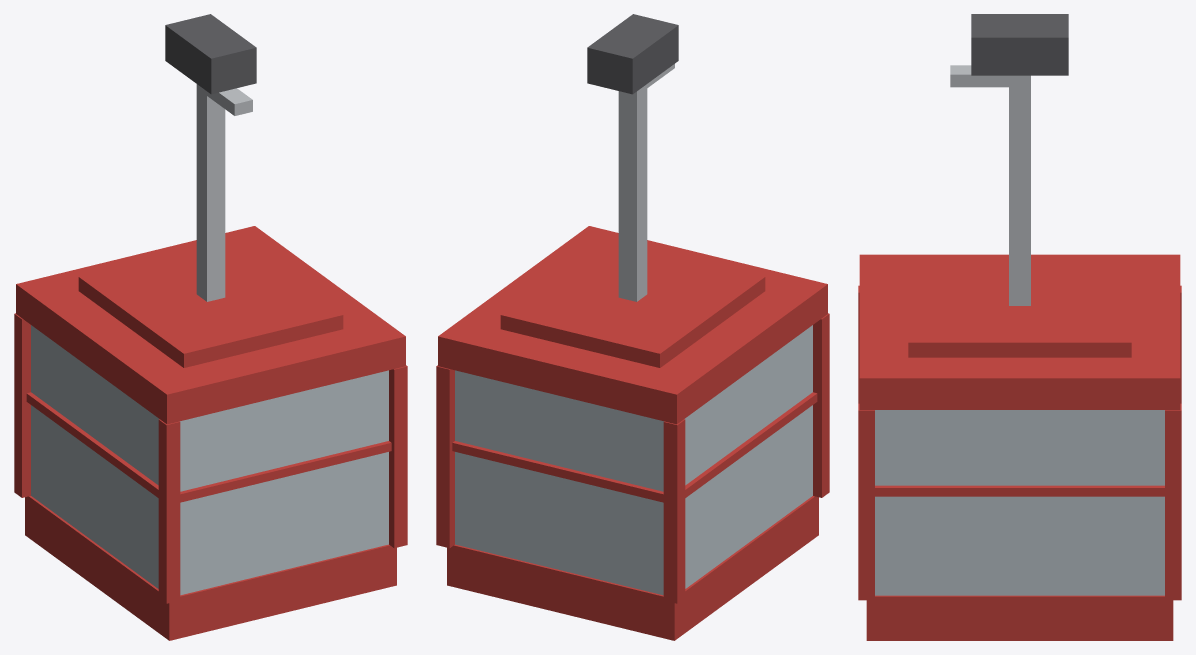
The model's file is sc_m_gcabin.fbx.
3 renders of one model, left to right at view 1: azimuth 30°, elevation 25°; view 2: azimuth 150°, elevation 25°; view 3: azimuth 270°, elevation 25°, orthographic. The views are drawn at different scales.
Visible parts, largest first — view 1: sc_m_gcabin.001; view 2: sc_m_gcabin.001; view 3: sc_m_gcabin.001.
Part boxes in pixels (left/top/right/bottom): sc_m_gcabin.001: left=14, top=14, right=407, bottom=640; sc_m_gcabin.001: left=436, top=14, right=829, bottom=640; sc_m_gcabin.001: left=858, top=14, right=1181, bottom=640.
Size of the model in its own units: 2.12 by 4.4 by 2.32.
